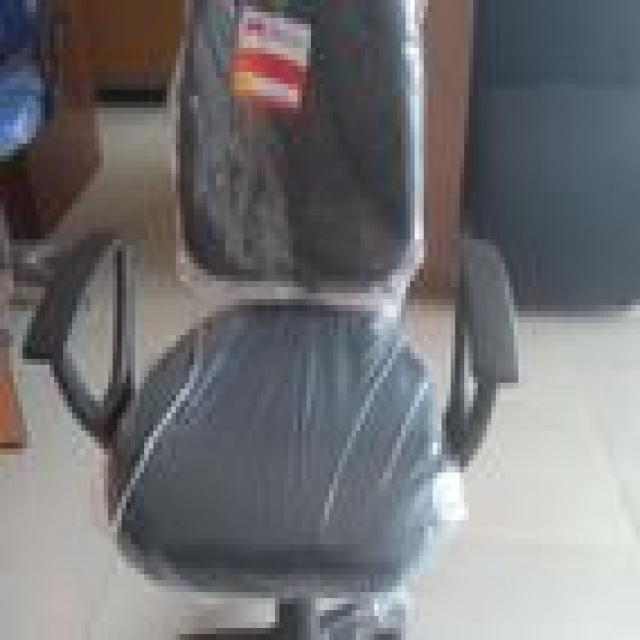others: (4, 6, 564, 640)
